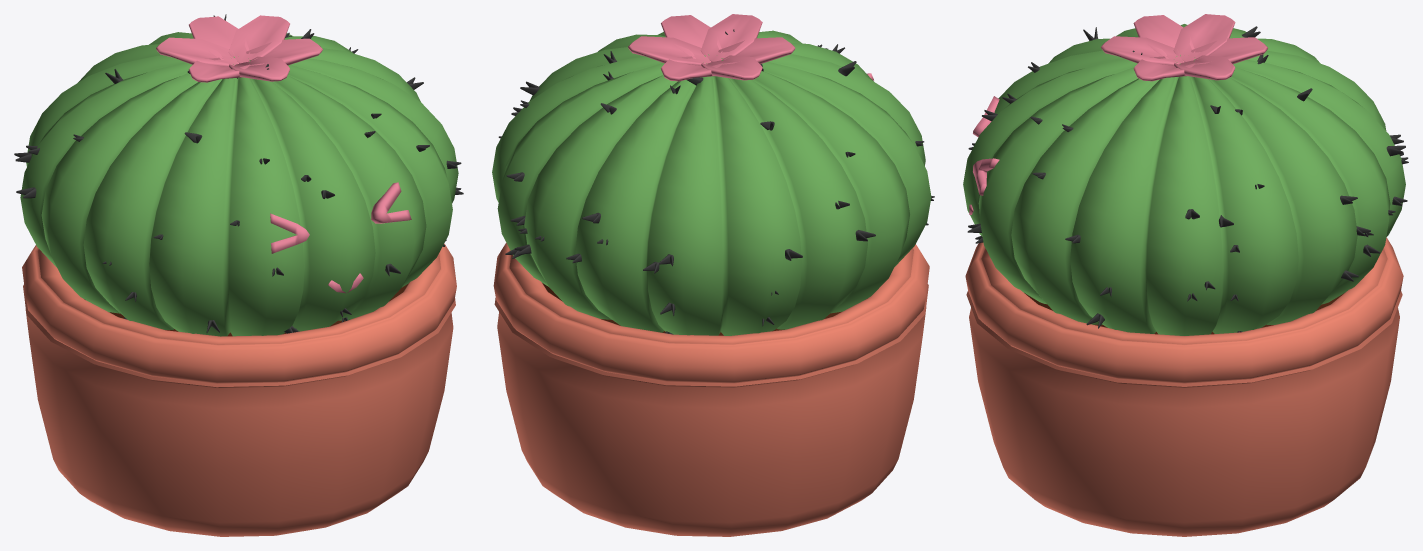
3 renders of one model, left to right at view 1: azimuth 30°, elevation 25°; view 2: azimuth 150°, elevation 25°; view 3: azimuth 270°, elevation 25°, orthographic.
Parts seen in each view (by area): view 1: Sphere, Cylinder, Cube.006, Cube.002, Cube; view 2: Sphere, Cylinder, Cube.006, Cube.002; view 3: Sphere, Cylinder, Cube.006, Cube.002, Cube.
Part boxes in pixels (box(x1,y1,x2,y2)): Sphere: box(20, 32, 458, 336); Cylinder: box(22, 243, 456, 536); Cube.006: box(156, 15, 322, 82); Cube.002: box(14, 14, 463, 333); Cube: box(270, 182, 411, 253); Sphere: box(492, 30, 931, 335); Cylinder: box(493, 242, 929, 536); Cube.006: box(628, 14, 795, 81); Cube.002: box(498, 29, 934, 334); Sphere: box(963, 24, 1405, 335); Cylinder: box(965, 237, 1403, 536); Cube.006: box(1101, 14, 1267, 81); Cube.002: box(967, 26, 1408, 332); Cube: box(973, 96, 999, 195).
Bounding box in the file's own units: 1.84 × 1.93 × 1.84.
